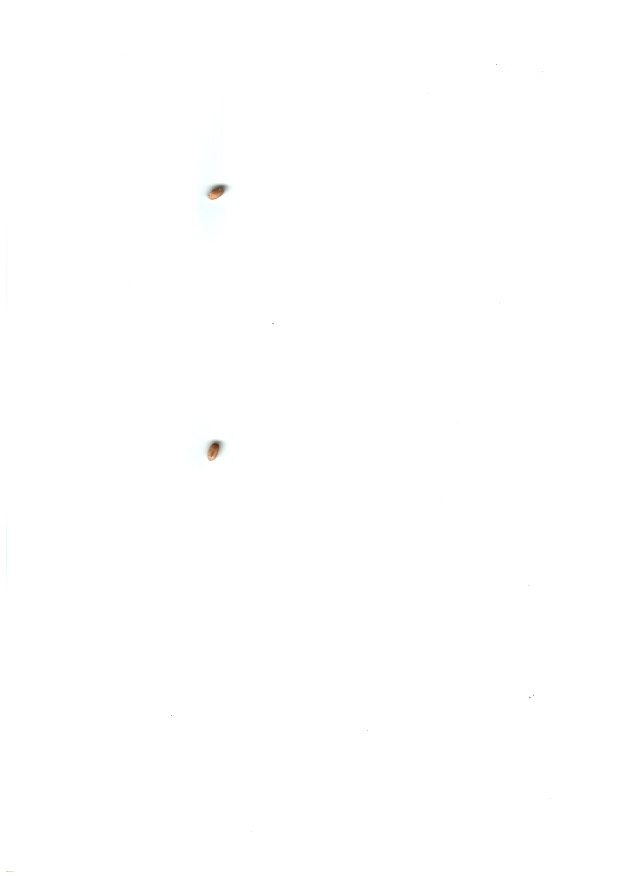grains: (199, 178, 233, 205), (197, 438, 228, 465)
